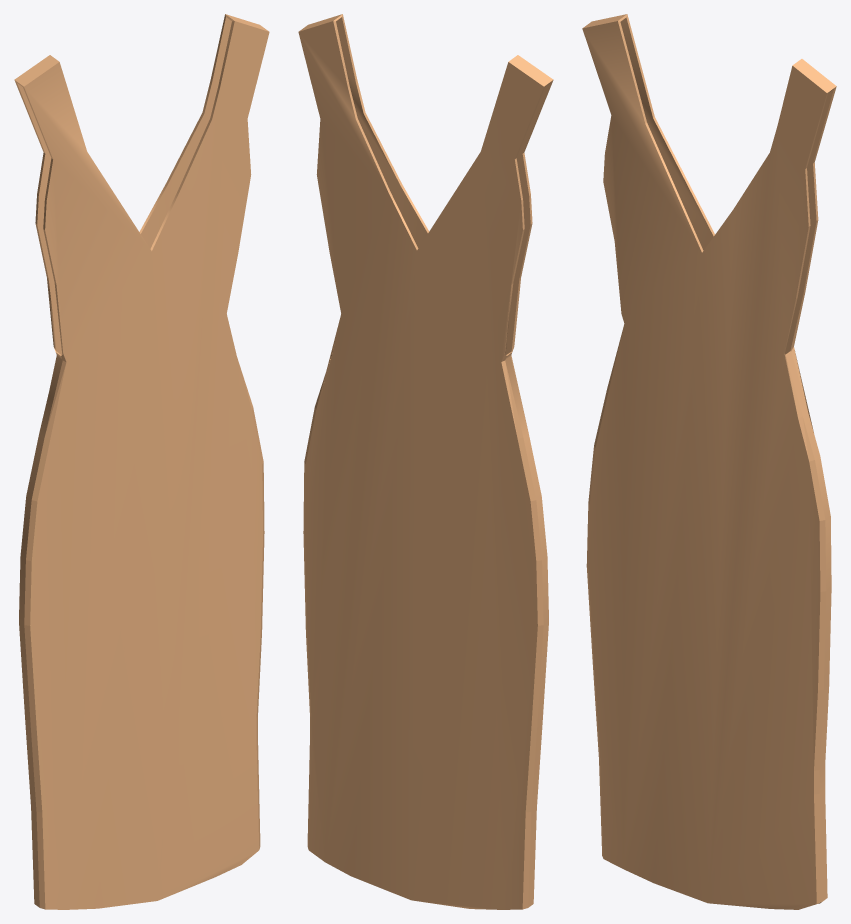
File: fancy-dress.FBX
3 views of the same model, side by side, from view 1: azimuth 30°, elevation 25°; view 2: azimuth 150°, elevation 25°; view 3: azimuth 330°, elevation 25° (orthographic).
Visible parts, largest first — view 1: Line002; view 2: Line002; view 3: Line002.
Boxes of the visible parts, x1,y1,x2,y2 form: Line002: (14,14,269,909); Line002: (298,14,553,909); Line002: (582,14,836,909).
Bounding box in the file's own units: 39.35 × 4.56 × 132.
